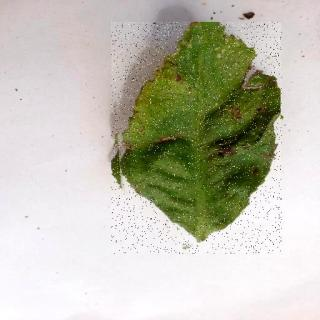Algal Leaf: (113, 24, 283, 256)
